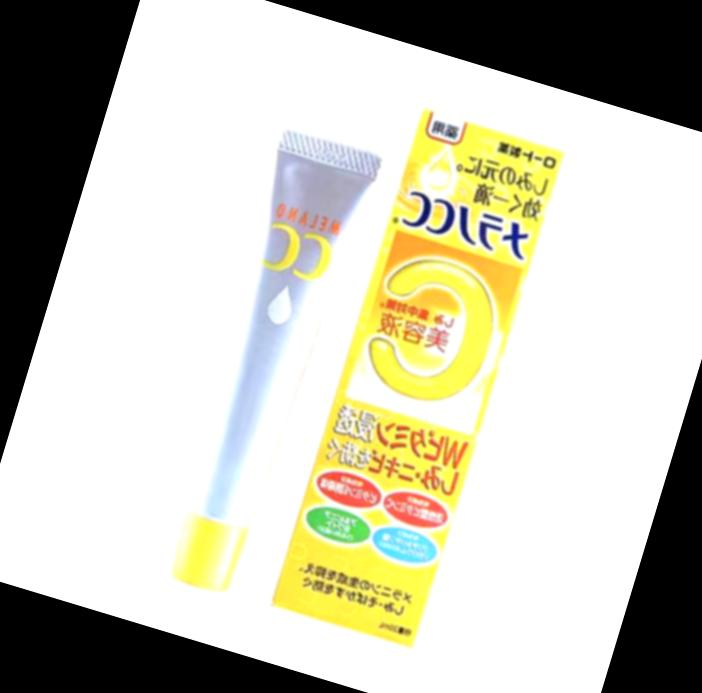cosmetic: (149, 126, 388, 603)
